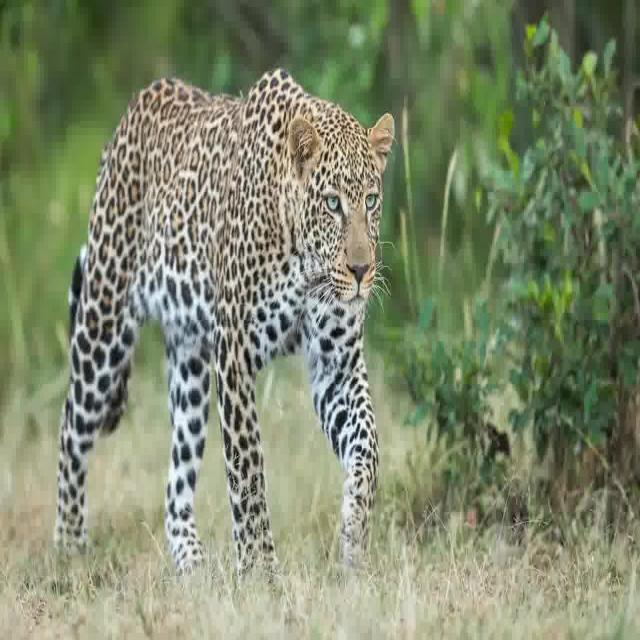Jaguar: (50, 39, 412, 600)
